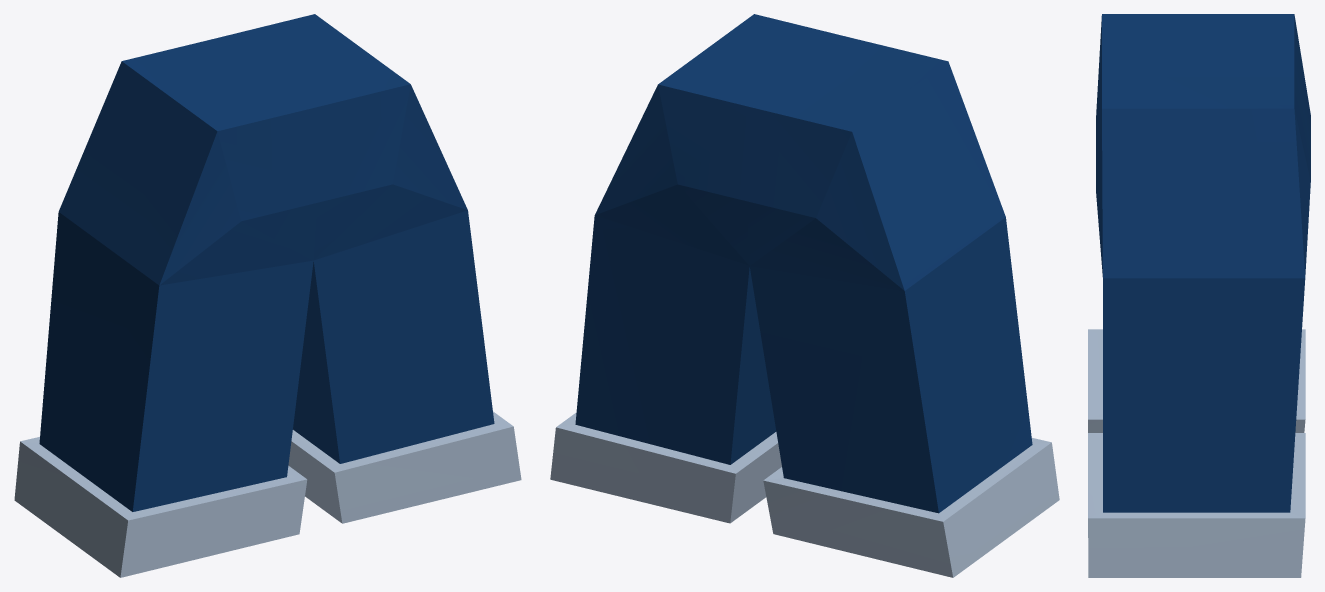
File: Base Pant1.fbx
The picture shows the model from 3 angles, left to right: view 1: azimuth 30°, elevation 25°; view 2: azimuth 150°, elevation 25°; view 3: azimuth 270°, elevation 25°; orthographic projection.
Parts seen in each view (by area): view 1: Right_Legging, Lower_Right_Pant, Left_Legging; view 2: Lower_Right_Pant, Right_Legging, Left_Legging; view 3: Left_Legging, Lower_Right_Pant, Right_Legging.
Part boxes in pixels (x1=…): Right_Legging: x1=14, y1=212, x2=313, y2=577; Lower_Right_Pant: x1=58, y1=14, x2=467, y2=285; Left_Legging: x1=288, y1=210, x2=521, y2=523; Lower_Right_Pant: x1=595, y1=14, x2=1005, y2=290; Right_Legging: x1=749, y1=217, x2=1059, y2=577; Left_Legging: x1=550, y1=215, x2=781, y2=523; Left_Legging: x1=1088, y1=278, x2=1305, y2=577; Lower_Right_Pant: x1=1096, y1=14, x2=1310, y2=278; Right_Legging: x1=1088, y1=329, x2=1305, y2=432.
Bounding box in the file's own units: 45.17 × 44.8 × 21.62.
